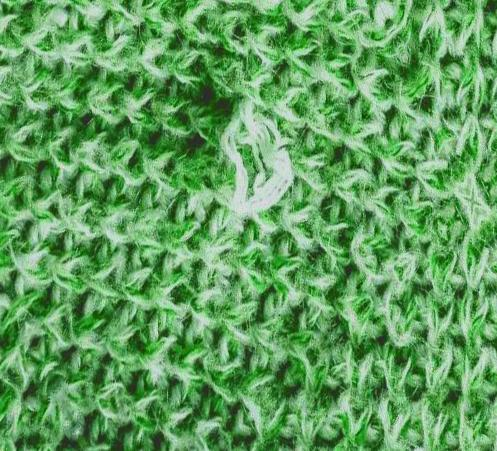snag: (210, 103, 301, 229)
